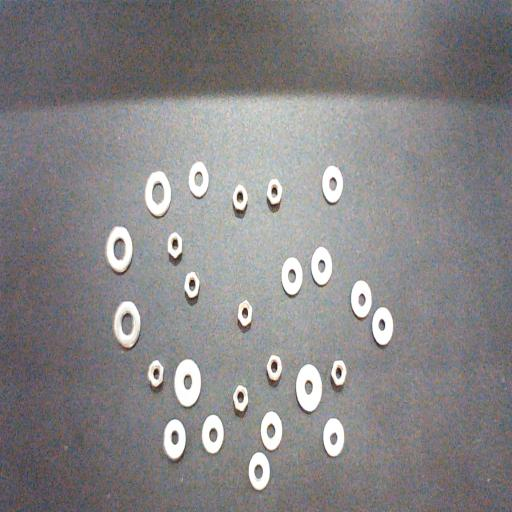nut: (148, 360, 164, 387), (330, 360, 346, 386), (184, 272, 200, 297), (234, 384, 248, 412), (267, 179, 282, 205), (266, 356, 282, 380), (238, 300, 252, 326), (168, 232, 182, 258), (233, 185, 247, 211)
washer: (174, 358, 201, 408), (144, 170, 171, 217), (106, 226, 132, 273), (114, 301, 140, 348), (297, 364, 322, 412), (248, 452, 270, 492), (281, 256, 303, 295), (372, 307, 394, 346), (323, 418, 344, 458), (164, 420, 185, 460), (350, 280, 372, 318), (260, 412, 282, 450), (322, 165, 343, 204), (202, 415, 223, 454), (311, 247, 333, 284), (189, 161, 209, 197)
